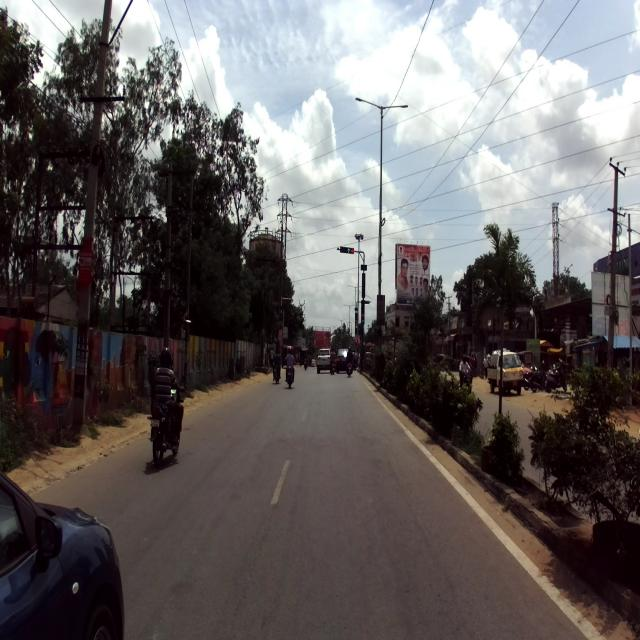car: (0, 471, 124, 640)
motorcycle: (146, 382, 186, 466)
truck: (486, 351, 523, 393)
